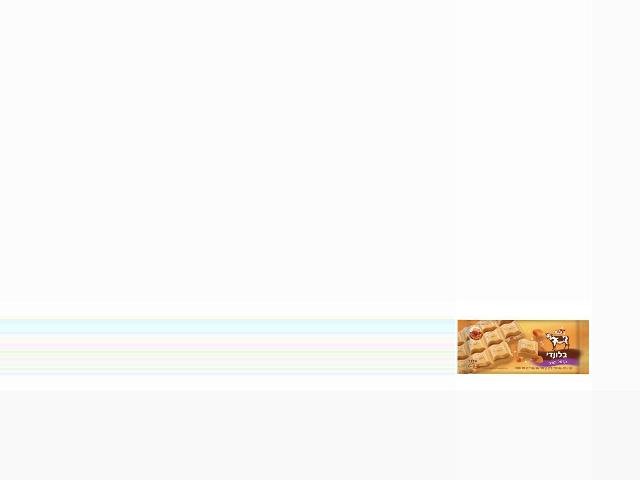chocolate: (457, 320, 593, 378)
